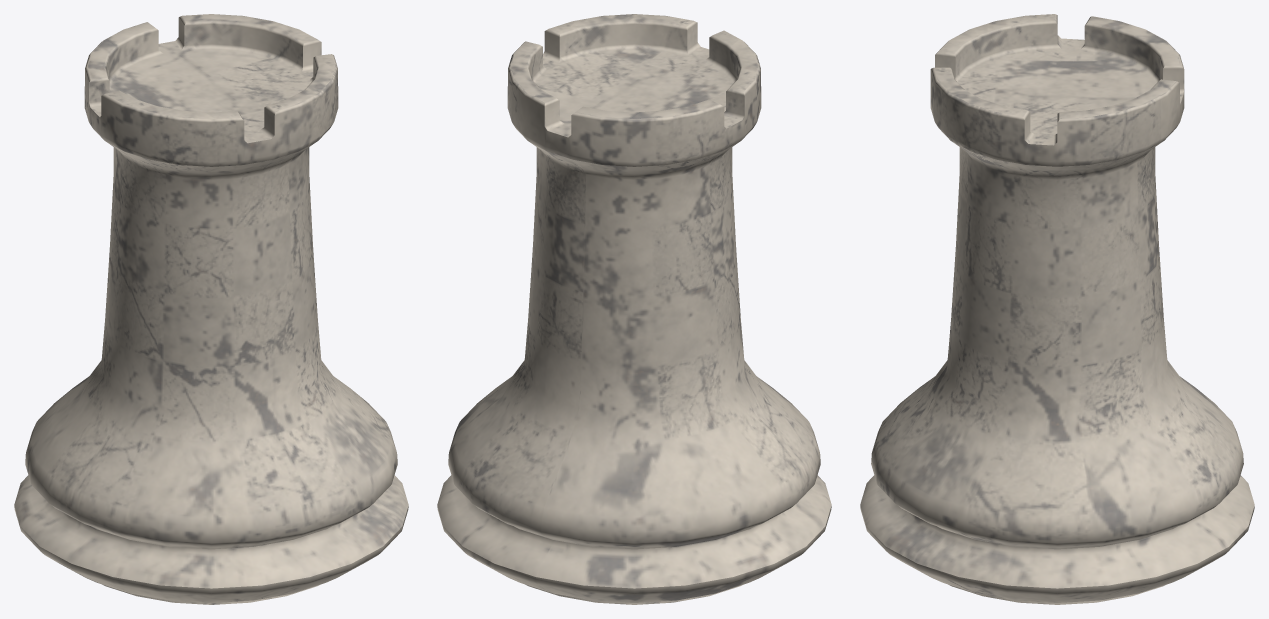
The model's file is mermer_r_w.glb.
3 renders of one model, left to right at view 1: azimuth 30°, elevation 25°; view 2: azimuth 150°, elevation 25°; view 3: azimuth 270°, elevation 25°, orthographic.
Visible parts, largest first — view 1: SM_Rook; view 2: SM_Rook; view 3: SM_Rook.
Boxes of the visible parts, x1,y1,x2,y2 form: SM_Rook: (14, 14, 408, 604); SM_Rook: (437, 14, 831, 604); SM_Rook: (860, 14, 1254, 604).
Size of the model in its own units: 4.06 by 5.37 by 4.04.
Materials: 1 (1 with a texture image).
